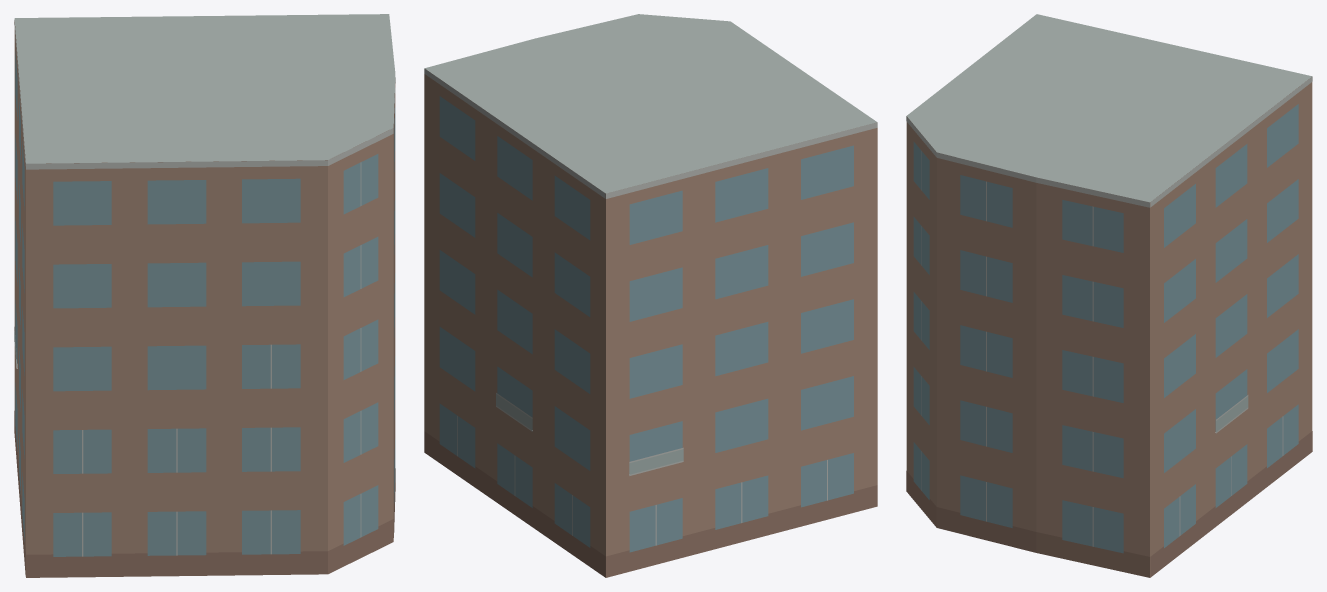
Rendered from survey-upis-32968270.glb.
3 renders of one model, left to right at view 1: azimuth 30°, elevation 25°; view 2: azimuth 150°, elevation 25°; view 3: azimuth 270°, elevation 25°, orthographic. The views are drawn at different scales.
Parts seen in each view (by area): view 1: survey-upis-32968270.tmp; view 2: survey-upis-32968270.tmp; view 3: survey-upis-32968270.tmp.
Part boxes in pixels (left/top/right/bottom): survey-upis-32968270.tmp: left=14, top=14, right=395, bottom=577; survey-upis-32968270.tmp: left=424, top=14, right=877, bottom=577; survey-upis-32968270.tmp: left=906, top=14, right=1312, bottom=577.
Size of the model in its own units: 18.3 by 17 by 16.67.
